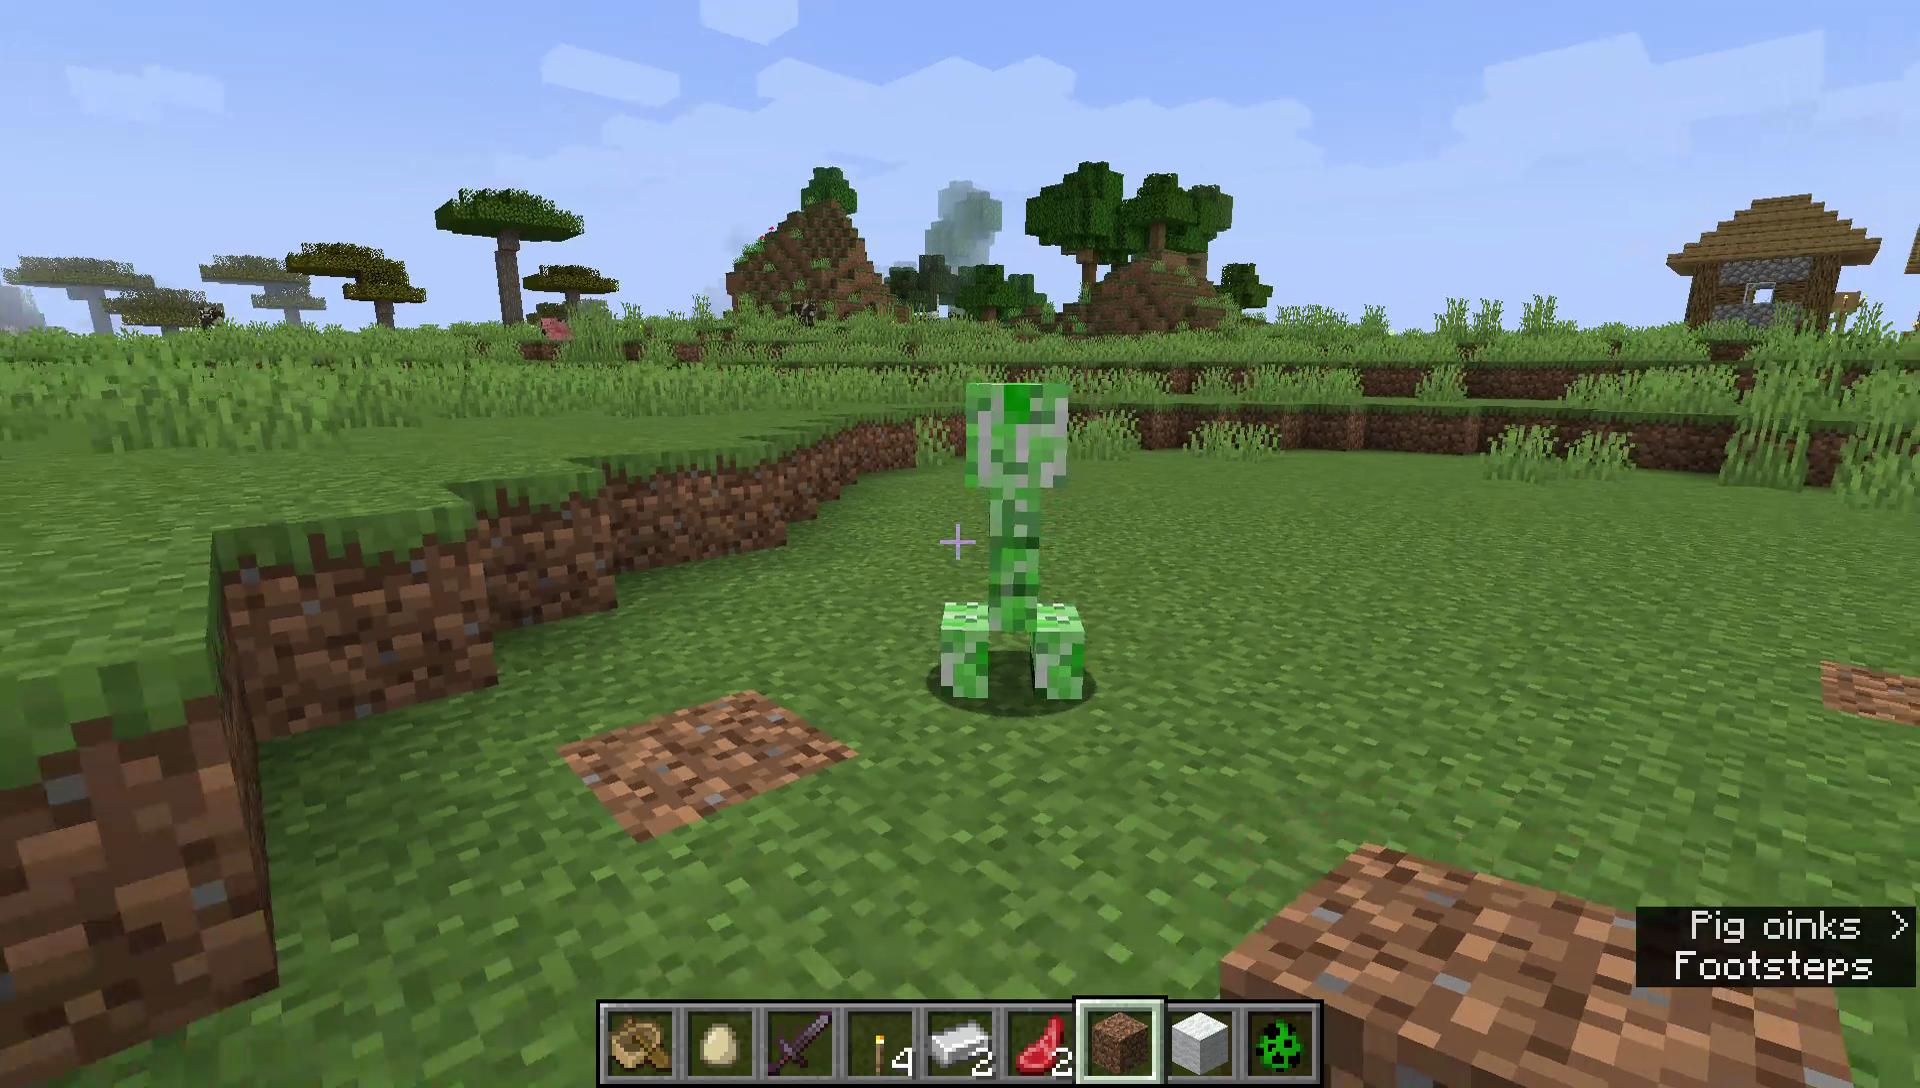cow: (789, 298, 822, 334), (196, 302, 229, 338)
creeper: (931, 372, 1092, 715)
pig: (541, 315, 572, 343)
